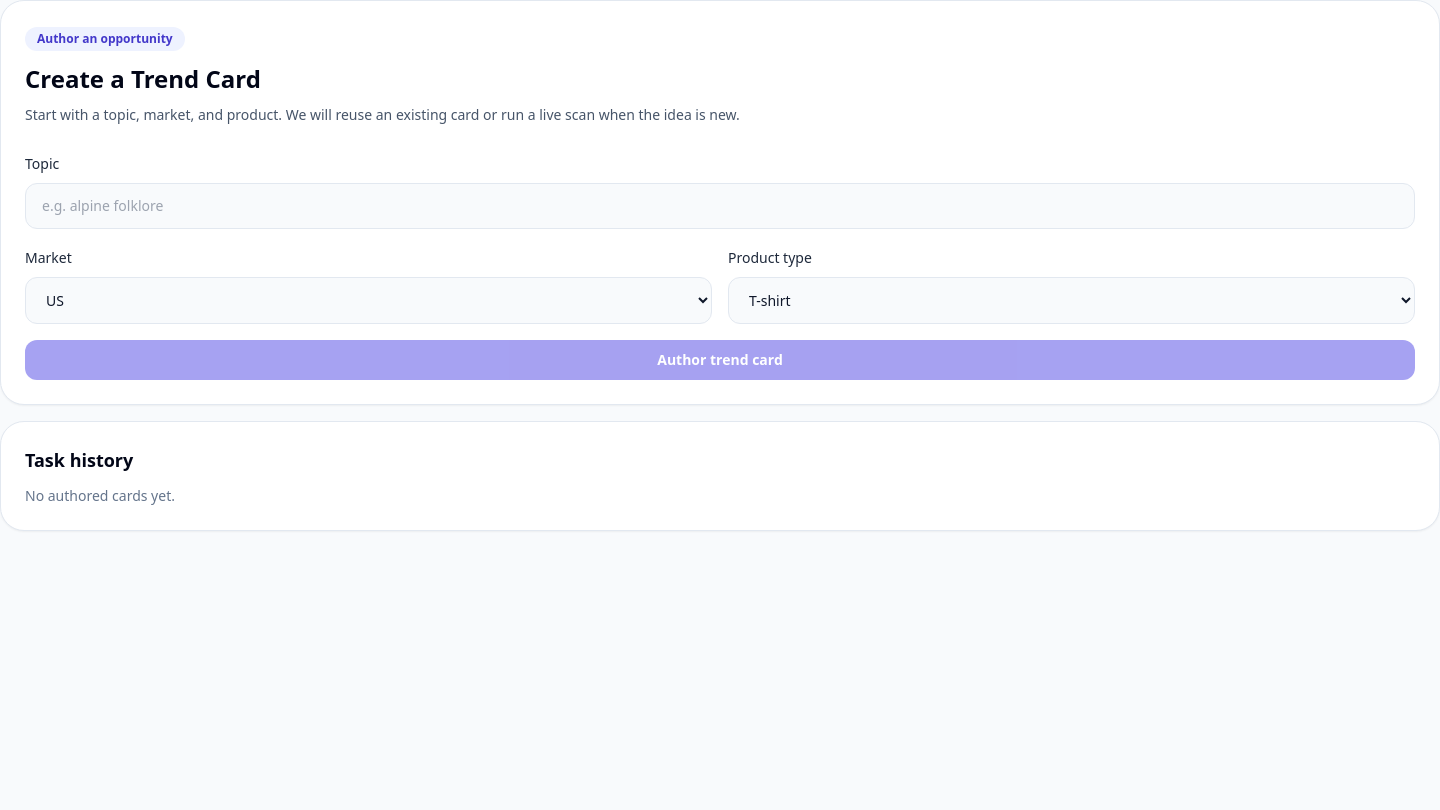
Test case: SeedAuthoringPanel › keeps the existing terminal failure behavior after progress events
This screenshot has width=1440, height=810.
Type "alpine folklore" into the field labelled "Topic".
click(720, 206); type("alpine folklore")  # box [25, 183, 1415, 229]
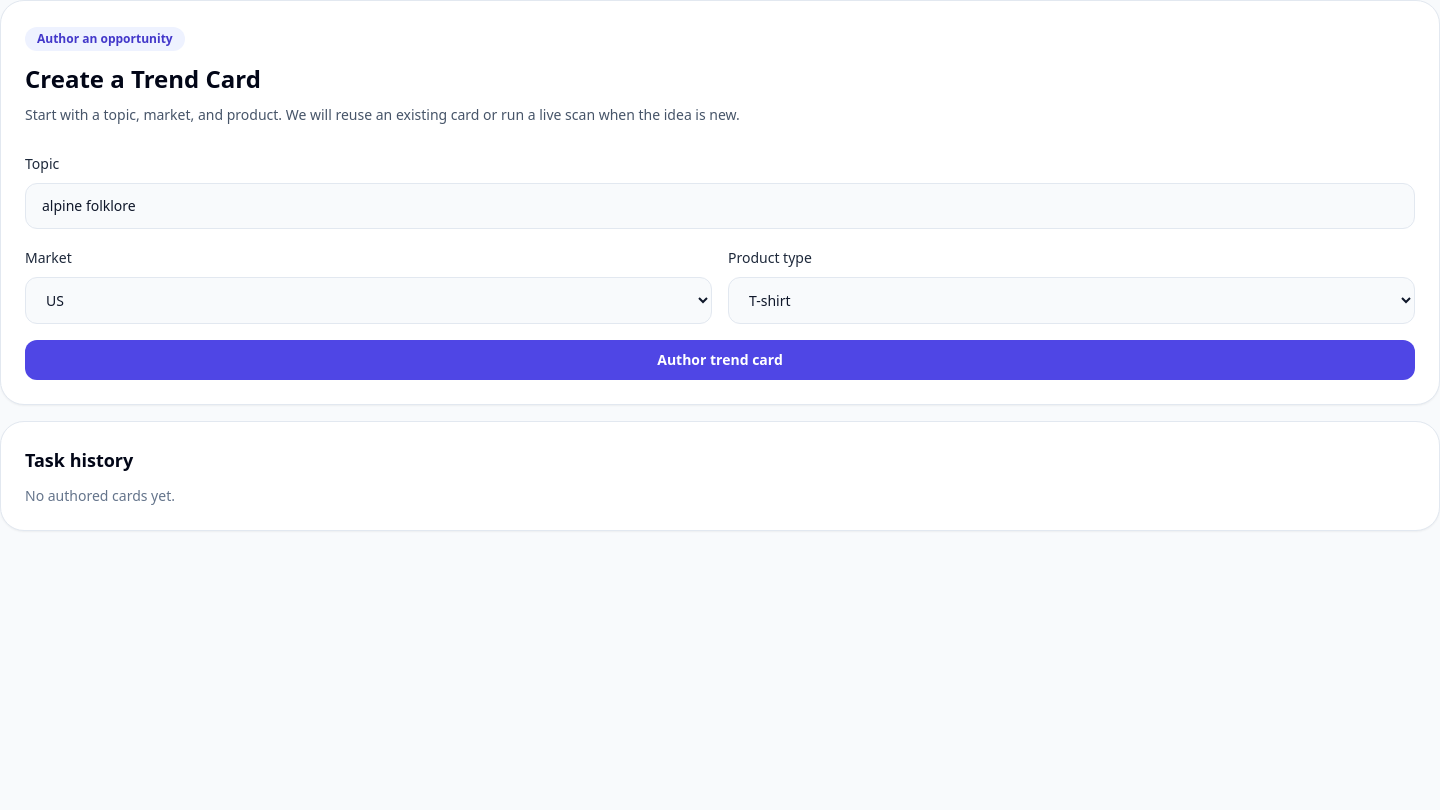
Click the button "Author trend card".
click(720, 360)  # box [25, 340, 1415, 380]
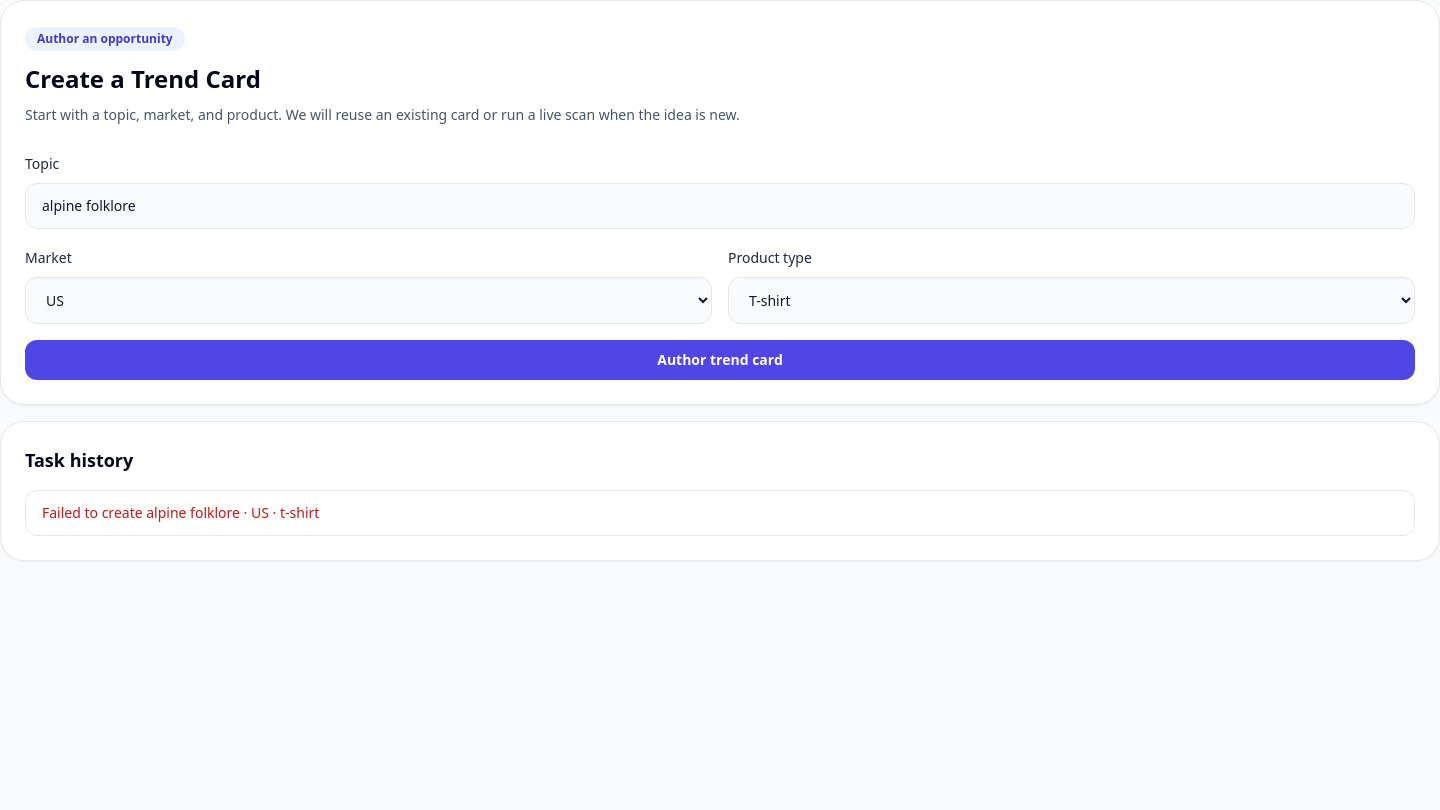
Check: the message shows "alpine folklore", box [146, 503, 240, 522]
